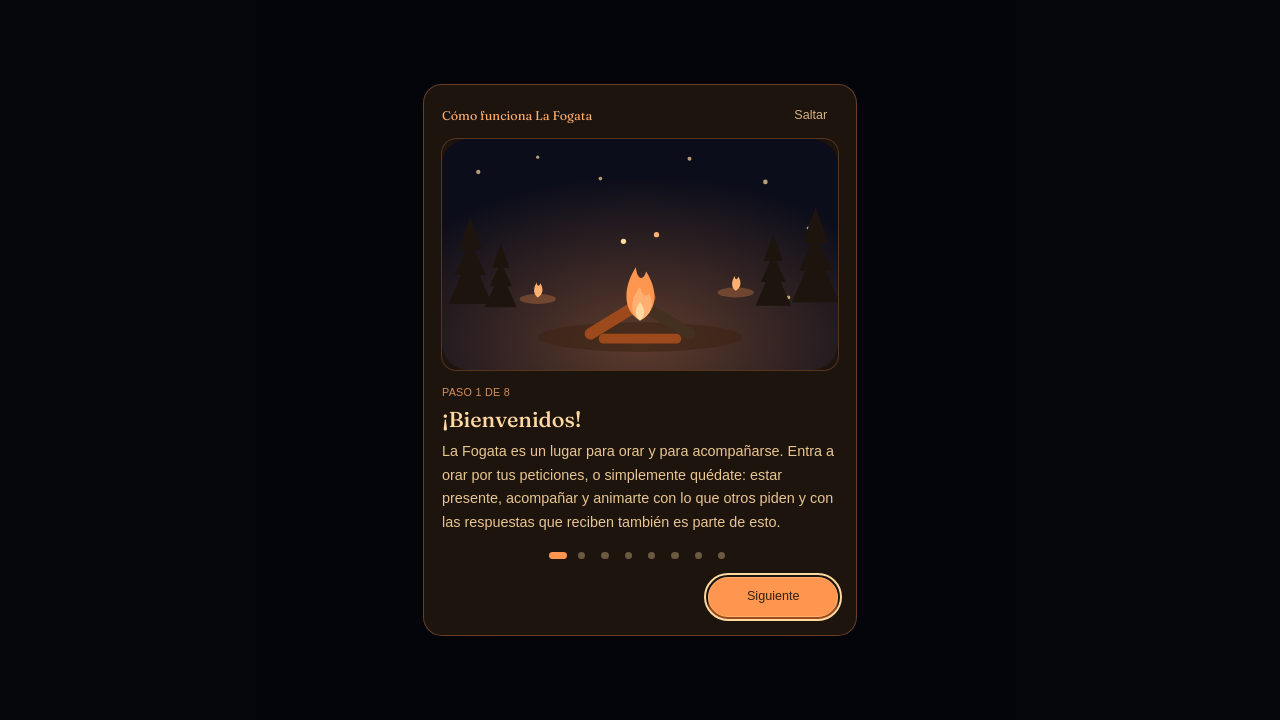
Test: the tutorial, in es › has a dot for each step, which jumps to it and marks the one it is on
Click the button named "Ir al paso 5".
click(652, 556)  # box [641,545,662,566]
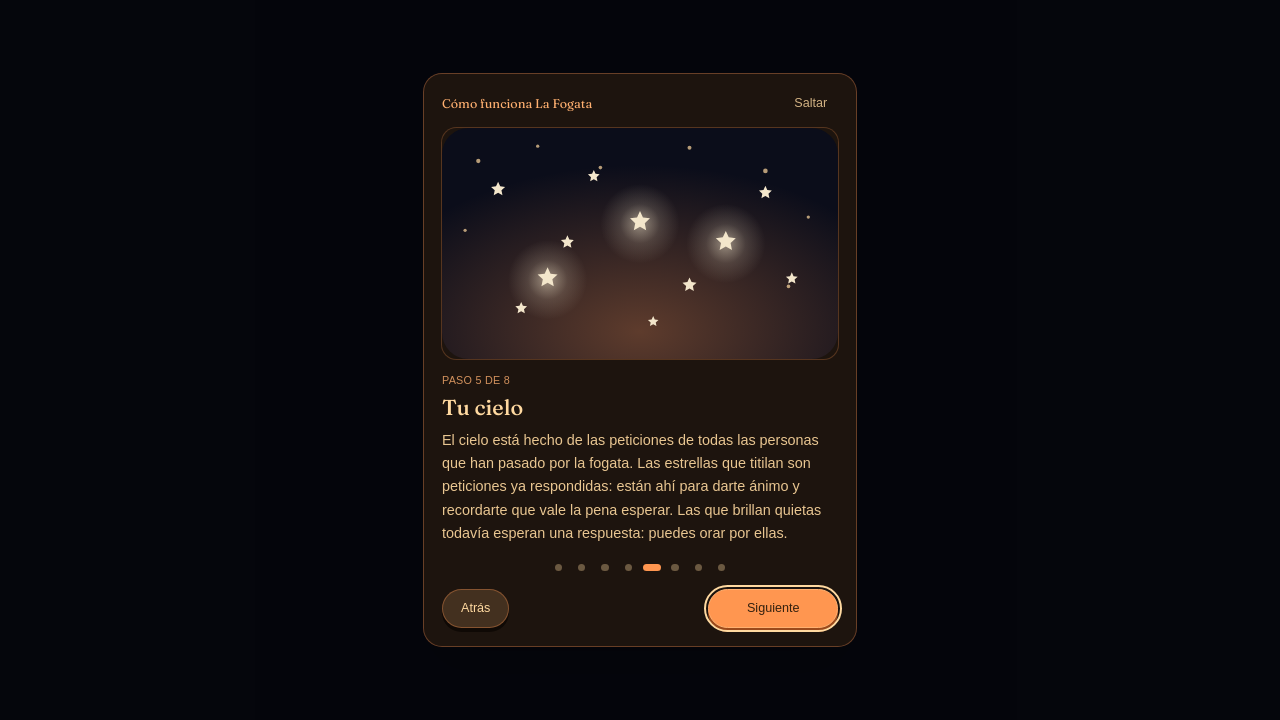
Now the heading "Tu cielo" is shown, box [442,394,523,422]
